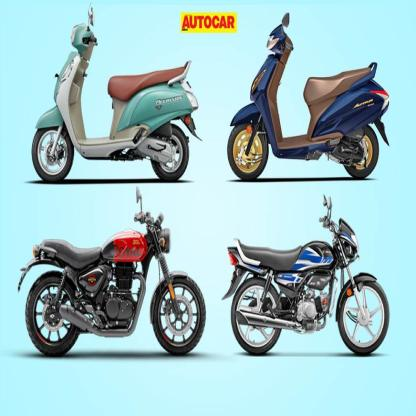bike: (19, 193, 208, 360), (29, 12, 197, 183), (226, 199, 388, 352), (234, 17, 386, 176)
